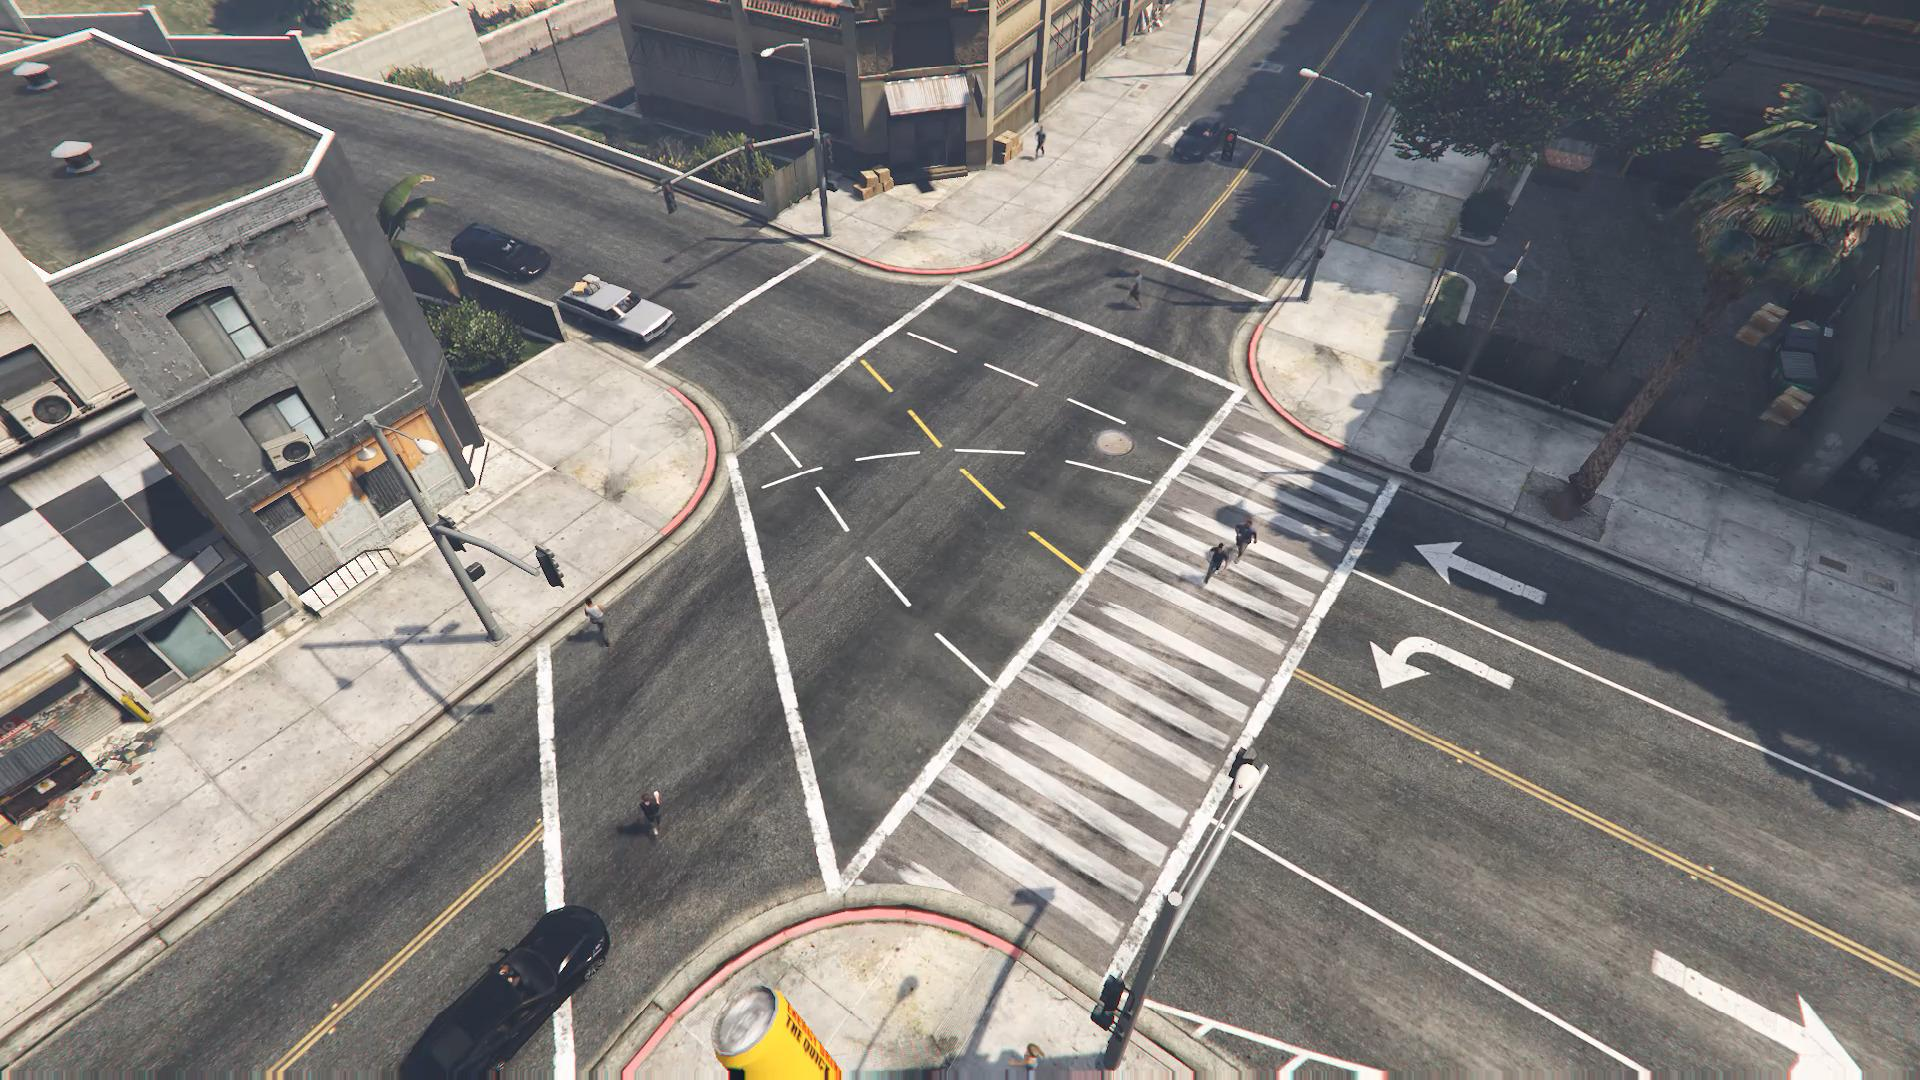car: (396, 905, 611, 1079), (556, 272, 675, 345), (448, 222, 551, 281), (1174, 116, 1225, 162)
